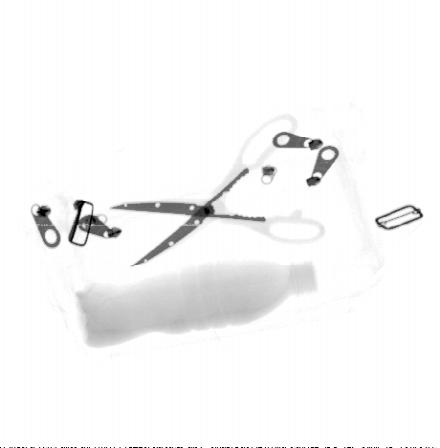Scissors: (108, 113, 329, 267)
